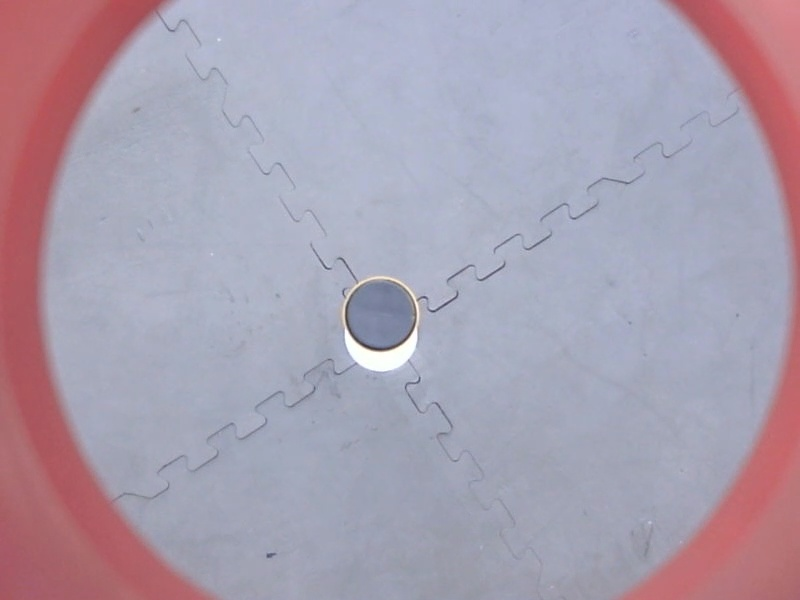tip: (338, 272, 424, 357)
